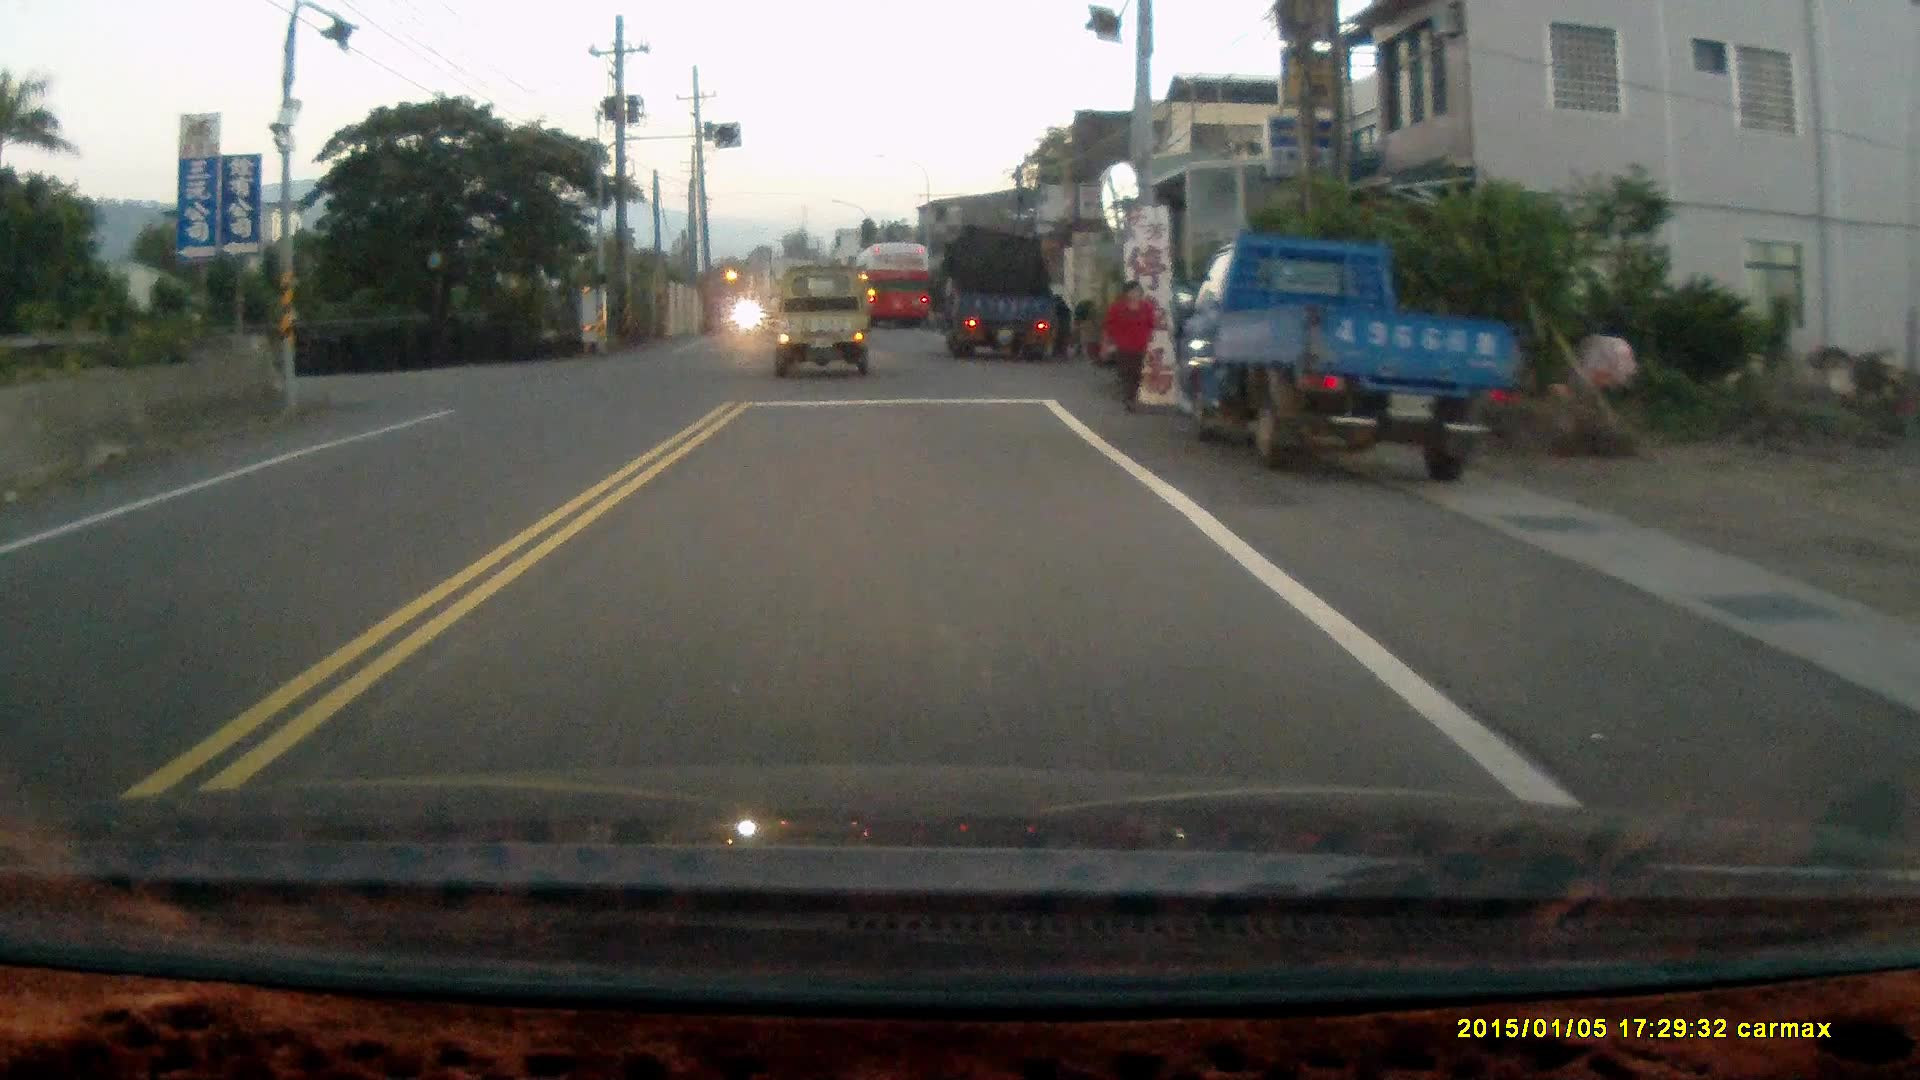pedestrian: (1100, 278, 1158, 418)
rider: (732, 286, 760, 341)
vehicle: (1177, 232, 1531, 480), (943, 231, 1064, 369), (775, 265, 877, 378), (863, 242, 949, 326)
